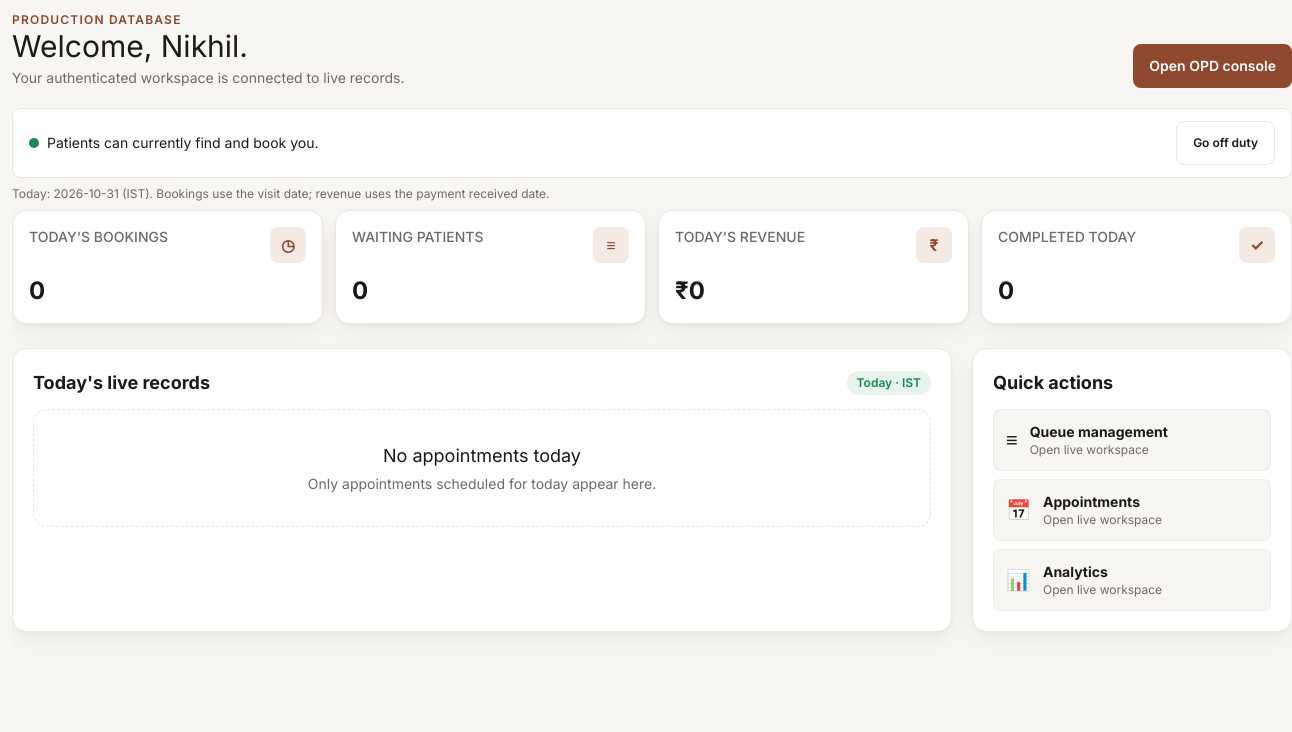
Scenario: DoctorDashboard › shows an inline error and leaves duty status unchanged when the toggle fails
Click the button "Go off duty".
click(1226, 143)  # box [1176,121,1275,165]
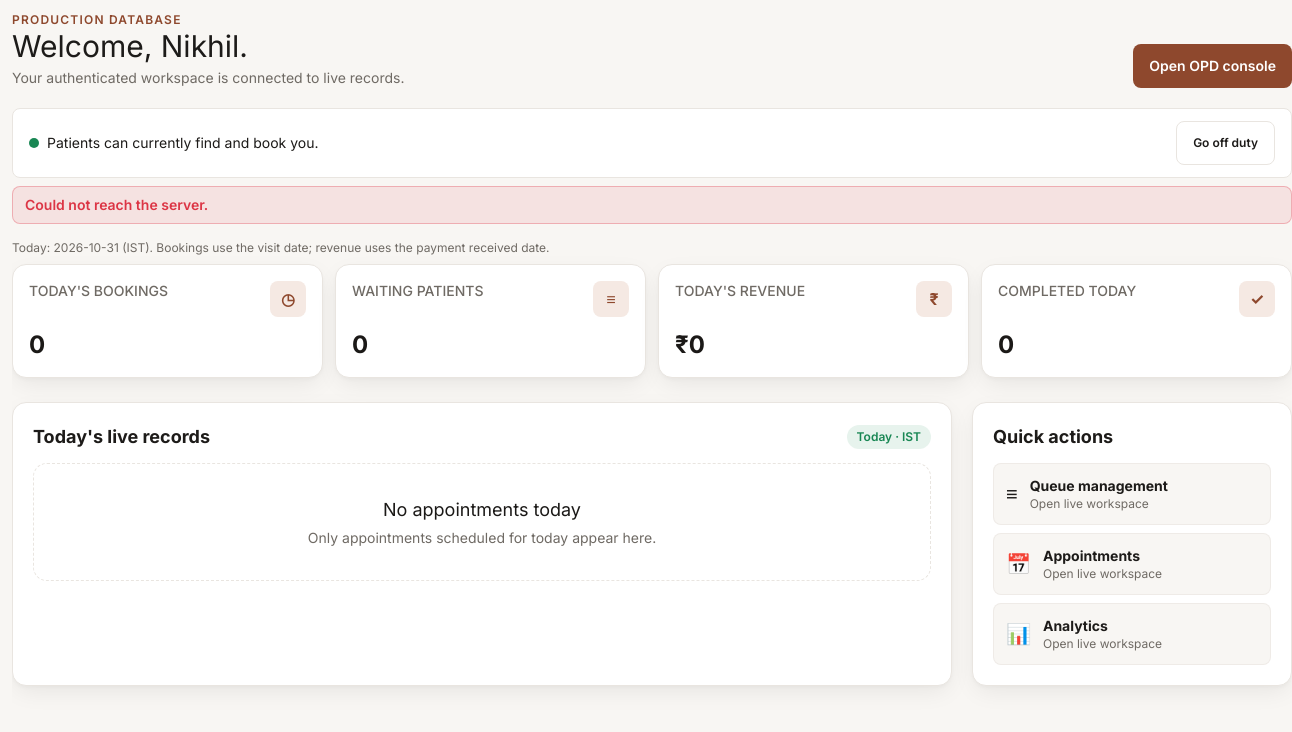
Check: the text "Could not reach the server." is shown, box [12,186,1291,224]
